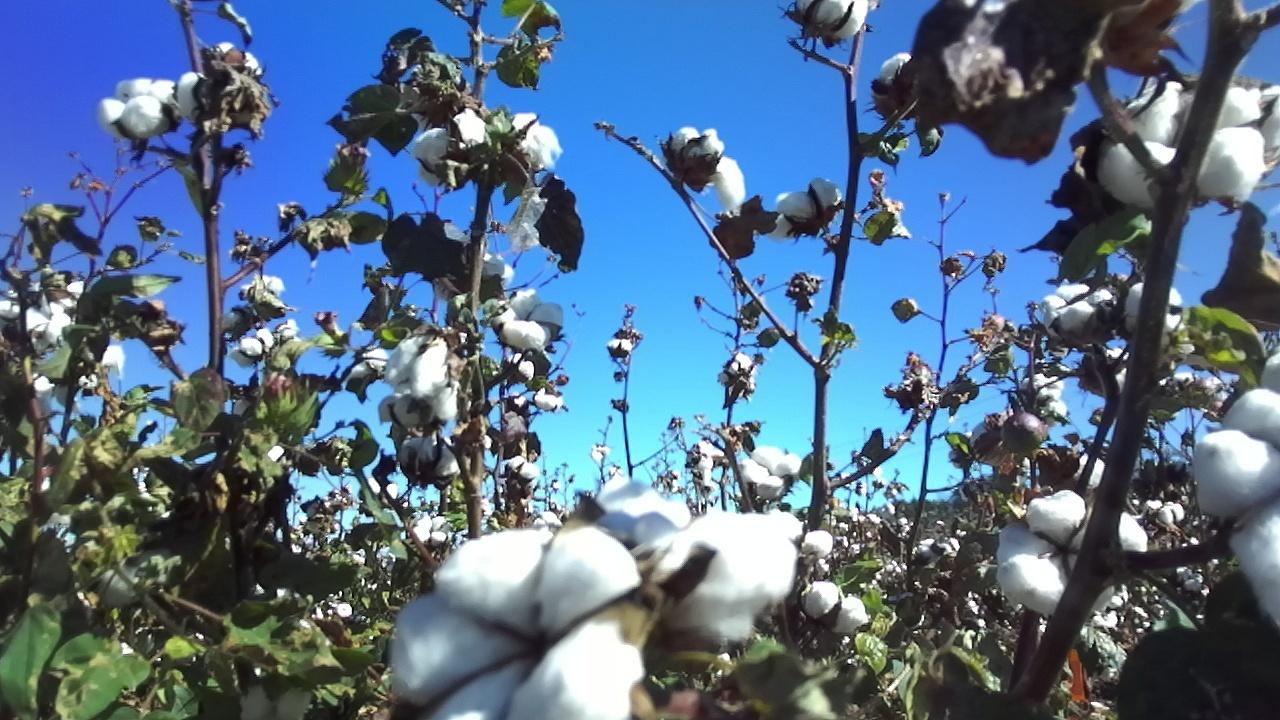cotton_ready: (389, 524, 649, 720), (576, 475, 805, 644), (1190, 352, 1280, 632), (1095, 77, 1280, 212), (990, 492, 1145, 619), (409, 109, 564, 182), (0, 277, 92, 352), (177, 42, 264, 121), (380, 335, 460, 420), (672, 125, 745, 217), (483, 285, 567, 355), (765, 178, 844, 244), (100, 73, 179, 137), (805, 579, 872, 640), (1040, 282, 1116, 335), (786, 0, 872, 44), (1125, 282, 1185, 344), (870, 56, 933, 115), (738, 445, 800, 500)
